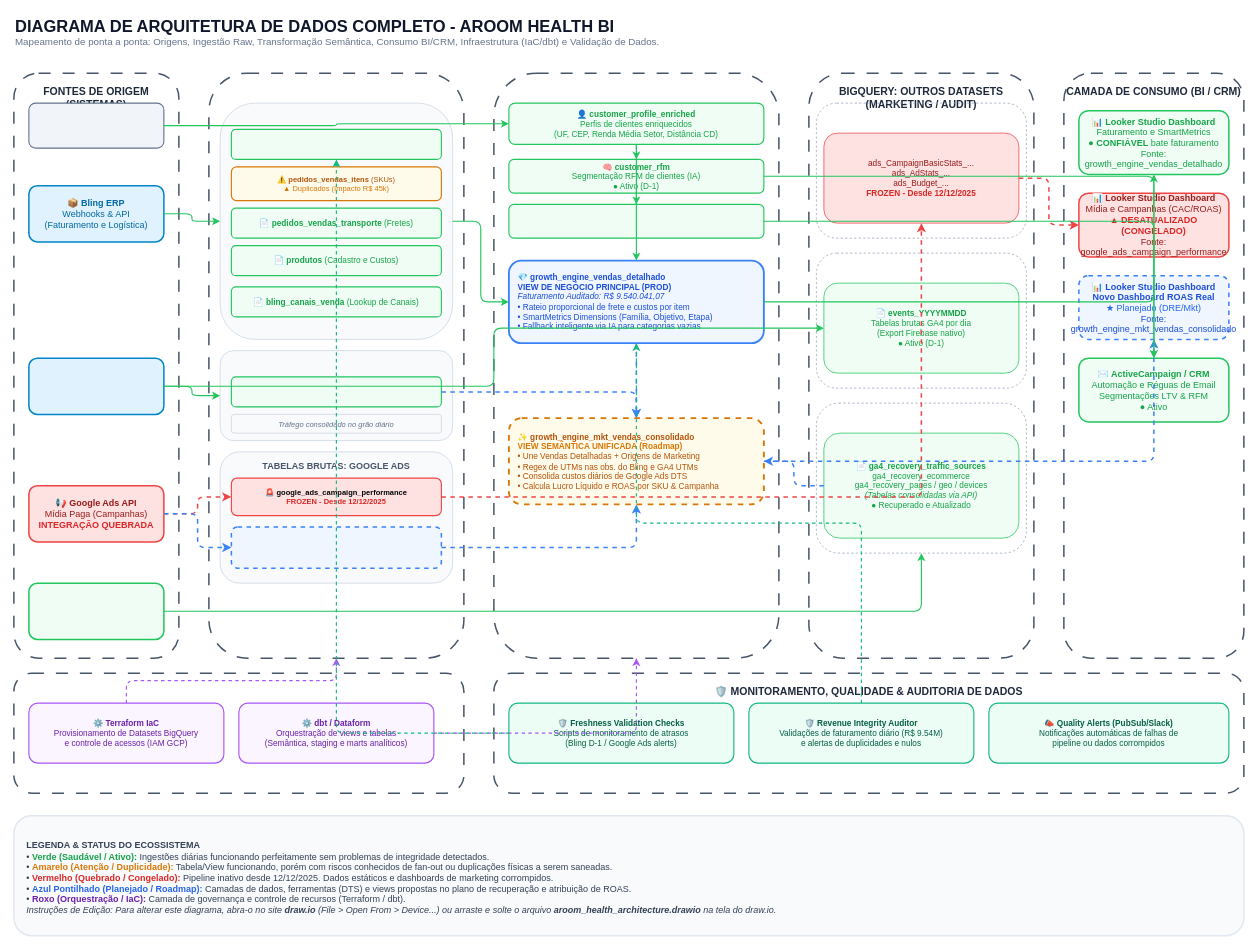
This 1257x949 diagram has some shape labels left out. The box of each missing label's shape, as (x1, y1, x2, y2) in pixels:
BIGQUERY: DATASET CURATED (customer_intelligence): (493, 72, 779, 658)
BIGQUERY: DATASET RAW (database_aroom_health): (208, 72, 464, 658)
dataset: analytics_414017556: (816, 252, 1026, 388)
dataset: analytics_recovery: (816, 402, 1026, 553)
dataset: google_ads (Frozen): (816, 102, 1026, 238)
TABELAS BRUTAS: BLING ERP: (219, 102, 453, 339)
TABELAS BRUTAS: GA4: (219, 350, 453, 441)
✨ google_ads_campaign_performance_v2 ★ Proposto (Transferencia DTS e Backfill): (230, 526, 442, 568)
🌍 IBGE & Dados Públicos Arquivos Municipais (Socioeconômico / UF): (28, 102, 164, 148)
🐍 GA4 Data API Consultas Python SDK (Recuperação Histórica): (28, 582, 164, 640)
📄 google_analytics_utm_daily (UTMs Consolidadas): (230, 376, 442, 407)
📄 pedidos_vendas (Headers): (230, 128, 442, 160)
📈 Google Analytics 4 Export Nativo Integrado (Sessões & Tráfego): (28, 357, 164, 415)
🛠️ ORQUESTRAÇÃO & INFRAESTRUTURA (DEVOPS): (13, 672, 464, 794)
🧠 customer_predictions Previsões de LTV e Churn de clientes (IA) ● Ativo (D-1): (508, 203, 764, 238)
